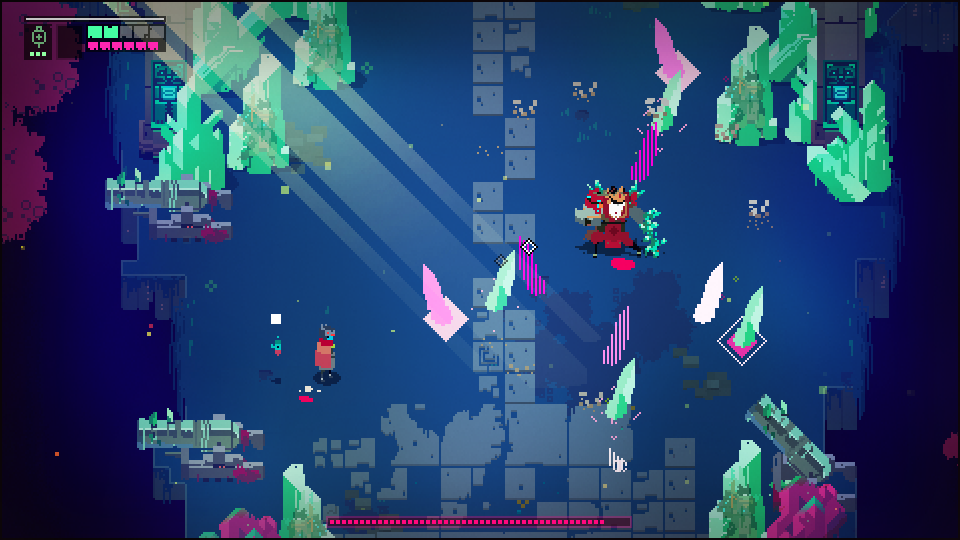hanged_crys: (515, 234, 548, 300), (695, 257, 727, 323), (605, 358, 640, 418), (735, 284, 766, 350), (416, 265, 449, 324), (657, 69, 687, 132), (648, 20, 679, 75), (490, 249, 516, 314), (633, 120, 660, 182), (603, 306, 630, 364)
hanged_man: (572, 178, 664, 264)
player: (311, 322, 338, 382)
